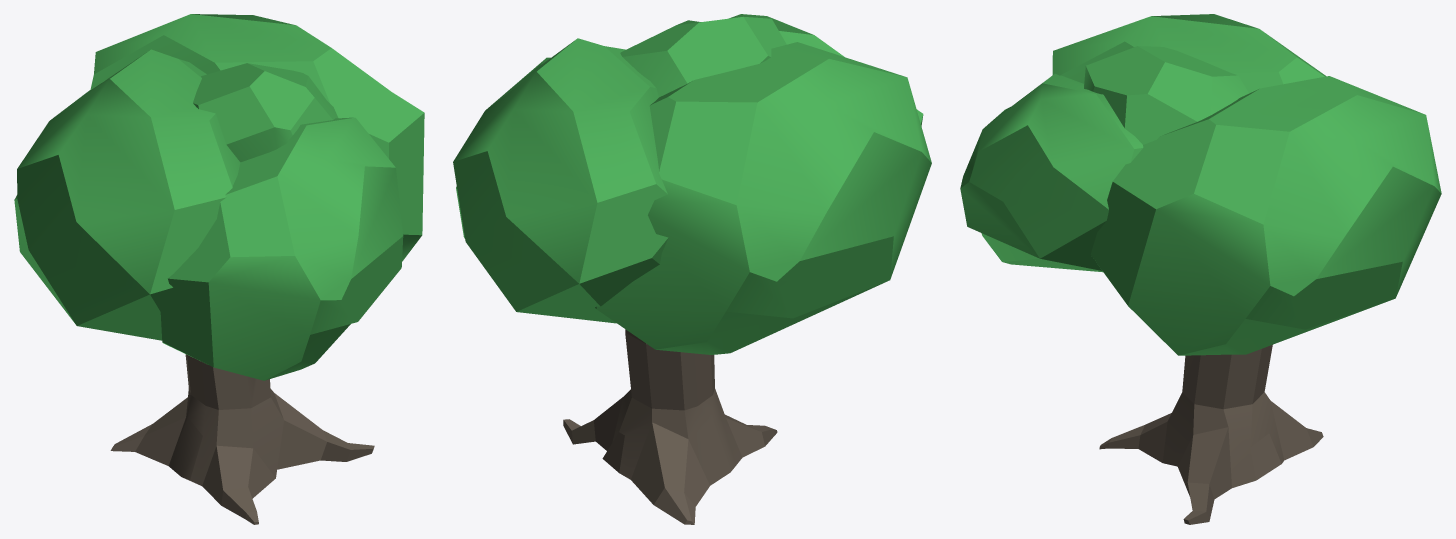
The model's file is Tree.fbx.
The picture shows the model from 3 angles, left to right: view 1: azimuth 30°, elevation 25°; view 2: azimuth 150°, elevation 25°; view 3: azimuth 270°, elevation 25°; orthographic projection. The views are drawn at different scales.
Parts seen in each view (by area): view 1: tree; view 2: tree; view 3: tree.
Part boxes in pixels (box(x1,y1,x2,y2)): tree: box(14, 14, 424, 524); tree: box(453, 14, 931, 524); tree: box(960, 14, 1441, 524).
Size of the model in its own units: 3.25 by 3.41 by 3.58.
